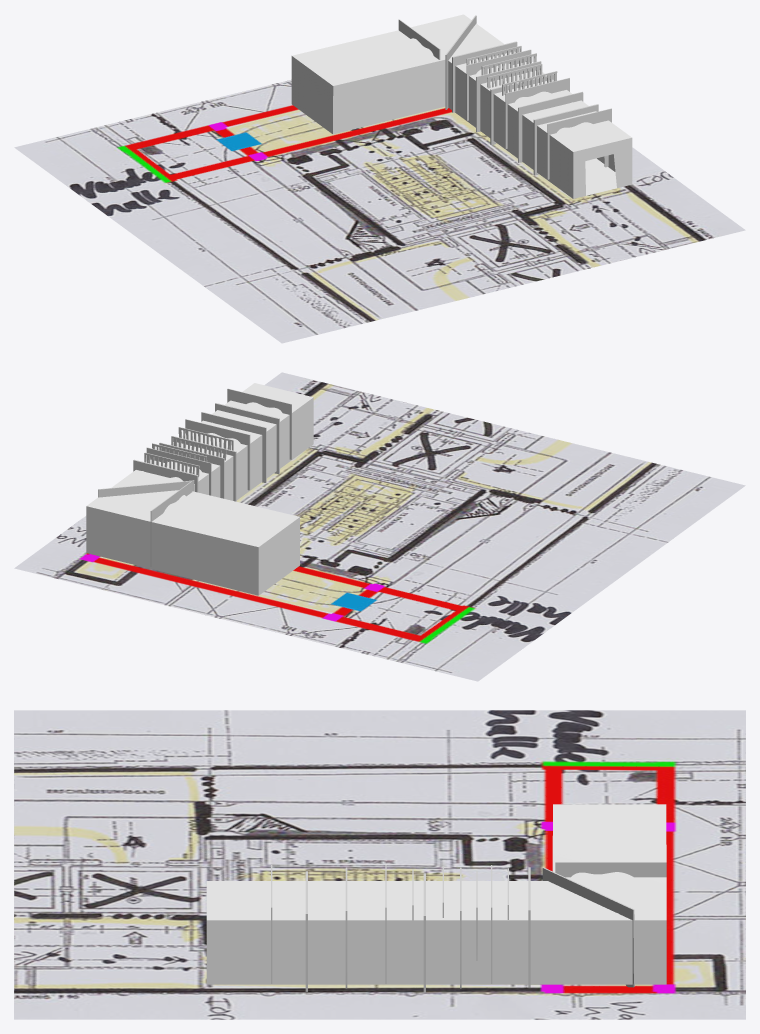
The model's file is Reizdarm Model.fbx.
The picture shows the model from 3 angles, top to bottom: view 1: azimuth 30°, elevation 25°; view 2: azimuth 150°, elevation 25°; view 3: azimuth 270°, elevation 25°; orthographic projection. The views are drawn at different scales.
Parts seen in each view (by area): view 1: Plan, Würfel, Schotte_A, Schotte_C, Schotte_A_1, Schote_B_2, Schote_B, Schotte_A_2, Schotte_C_1, Lotte_1; view 2: Plan, Würfel, Schotte_C, Schotte_C_2, Schotte_A_1, Schotte_A, Schote_B, Schote_B_2, Schotte_A_2, Schotte_C_1, Schotte_A_3; view 3: Plan, Würfel, Schotte_A_3, Schotte_C_2.
Part boxes in pixels (x1,y1,x2,y2): Plan: [14, 79, 745, 343]; Würfel: [291, 14, 632, 198]; Schotte_A: [547, 108, 611, 179]; Schotte_C: [518, 91, 583, 162]; Schotte_A_1: [505, 78, 569, 148]; Schote_B_2: [452, 41, 517, 112]; Schote_B: [533, 104, 598, 175]; Schotte_A_2: [466, 49, 531, 120]; Schotte_C_1: [476, 61, 541, 132]; Lotte_1: [487, 64, 542, 88]; Plan: [14, 372, 745, 681]; Würfel: [86, 383, 313, 595]; Schotte_C: [201, 412, 266, 482]; Schotte_C_2: [98, 480, 194, 497]; Schotte_A_1: [185, 419, 250, 490]; Schotte_A: [227, 388, 291, 459]; Schote_B: [215, 403, 279, 474]; Schote_B_2: [133, 459, 198, 492]; Schotte_A_2: [146, 447, 211, 495]; Schotte_C_1: [159, 442, 224, 498]; Schotte_A_3: [150, 481, 192, 566]; Plan: [14, 710, 745, 1019]; Würfel: [206, 804, 666, 984]; Schotte_A_3: [555, 862, 666, 877]; Schotte_C_2: [542, 867, 634, 987].
Bounding box in the file's own units: 3000 × 396 × 3000.
2 materials, 1 textured.
